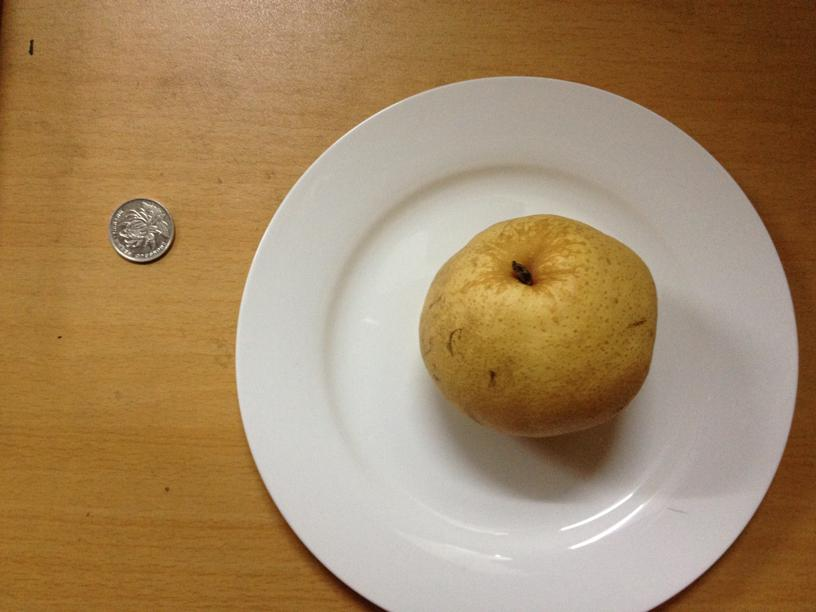coin: (102, 194, 175, 264)
pear: (412, 214, 658, 440)
